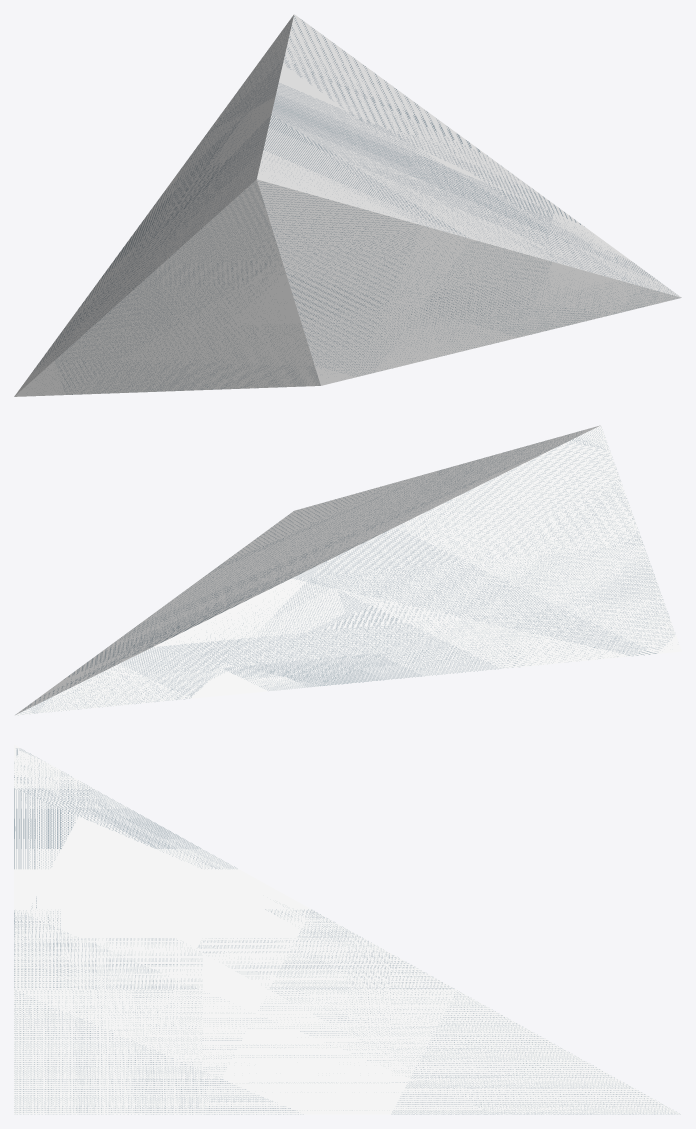
File: Gem Shard.dae
The picture shows the model from 3 angles, top to bottom: view 1: azimuth 30°, elevation 25°; view 2: azimuth 150°, elevation 25°; view 3: azimuth 270°, elevation 25°; orthographic projection. The views are drawn at different scales.
Visible parts, largest first — view 1: SketchUp; view 2: SketchUp; view 3: SketchUp.
Boxes of the visible parts, x1,y1,x2,y2 form: SketchUp: (14, 14, 681, 396); SketchUp: (14, 425, 681, 715); SketchUp: (14, 744, 681, 1114).
Size of the model in its own units: 2.24 by 2.49 by 0.7886.
